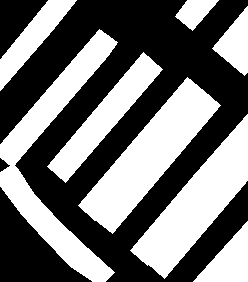parkingspot: (93, 90, 220, 233), (78, 77, 204, 220), (130, 113, 248, 265), (0, 29, 117, 167), (47, 52, 162, 182), (146, 144, 248, 278), (0, 164, 114, 282), (0, 0, 76, 90), (193, 220, 248, 282), (212, 5, 248, 75), (175, 0, 218, 30), (220, 249, 248, 282)
